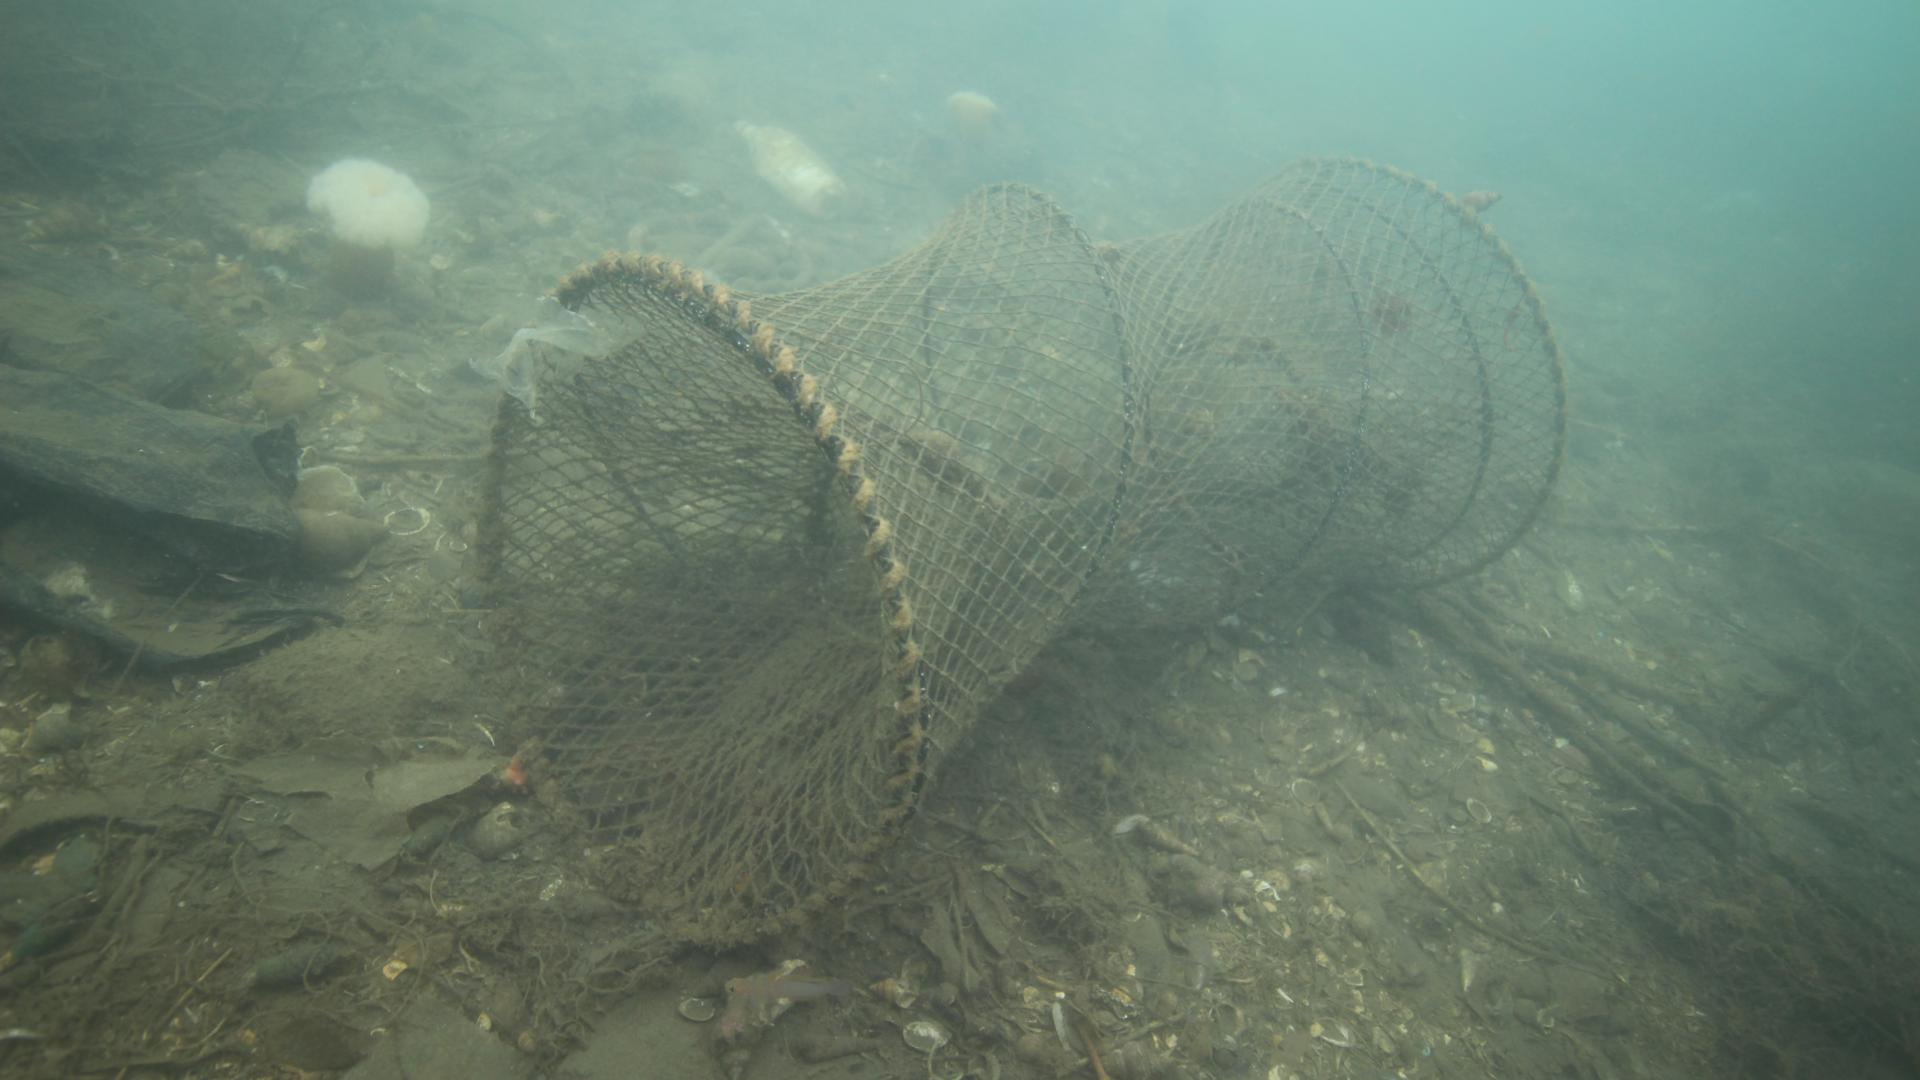spring fish trap: (477, 154, 1571, 951)
